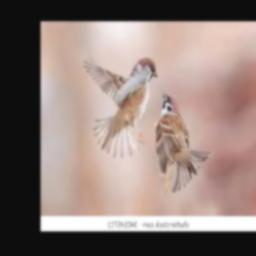Sparrow: (83, 58, 158, 159), (156, 92, 214, 192)
